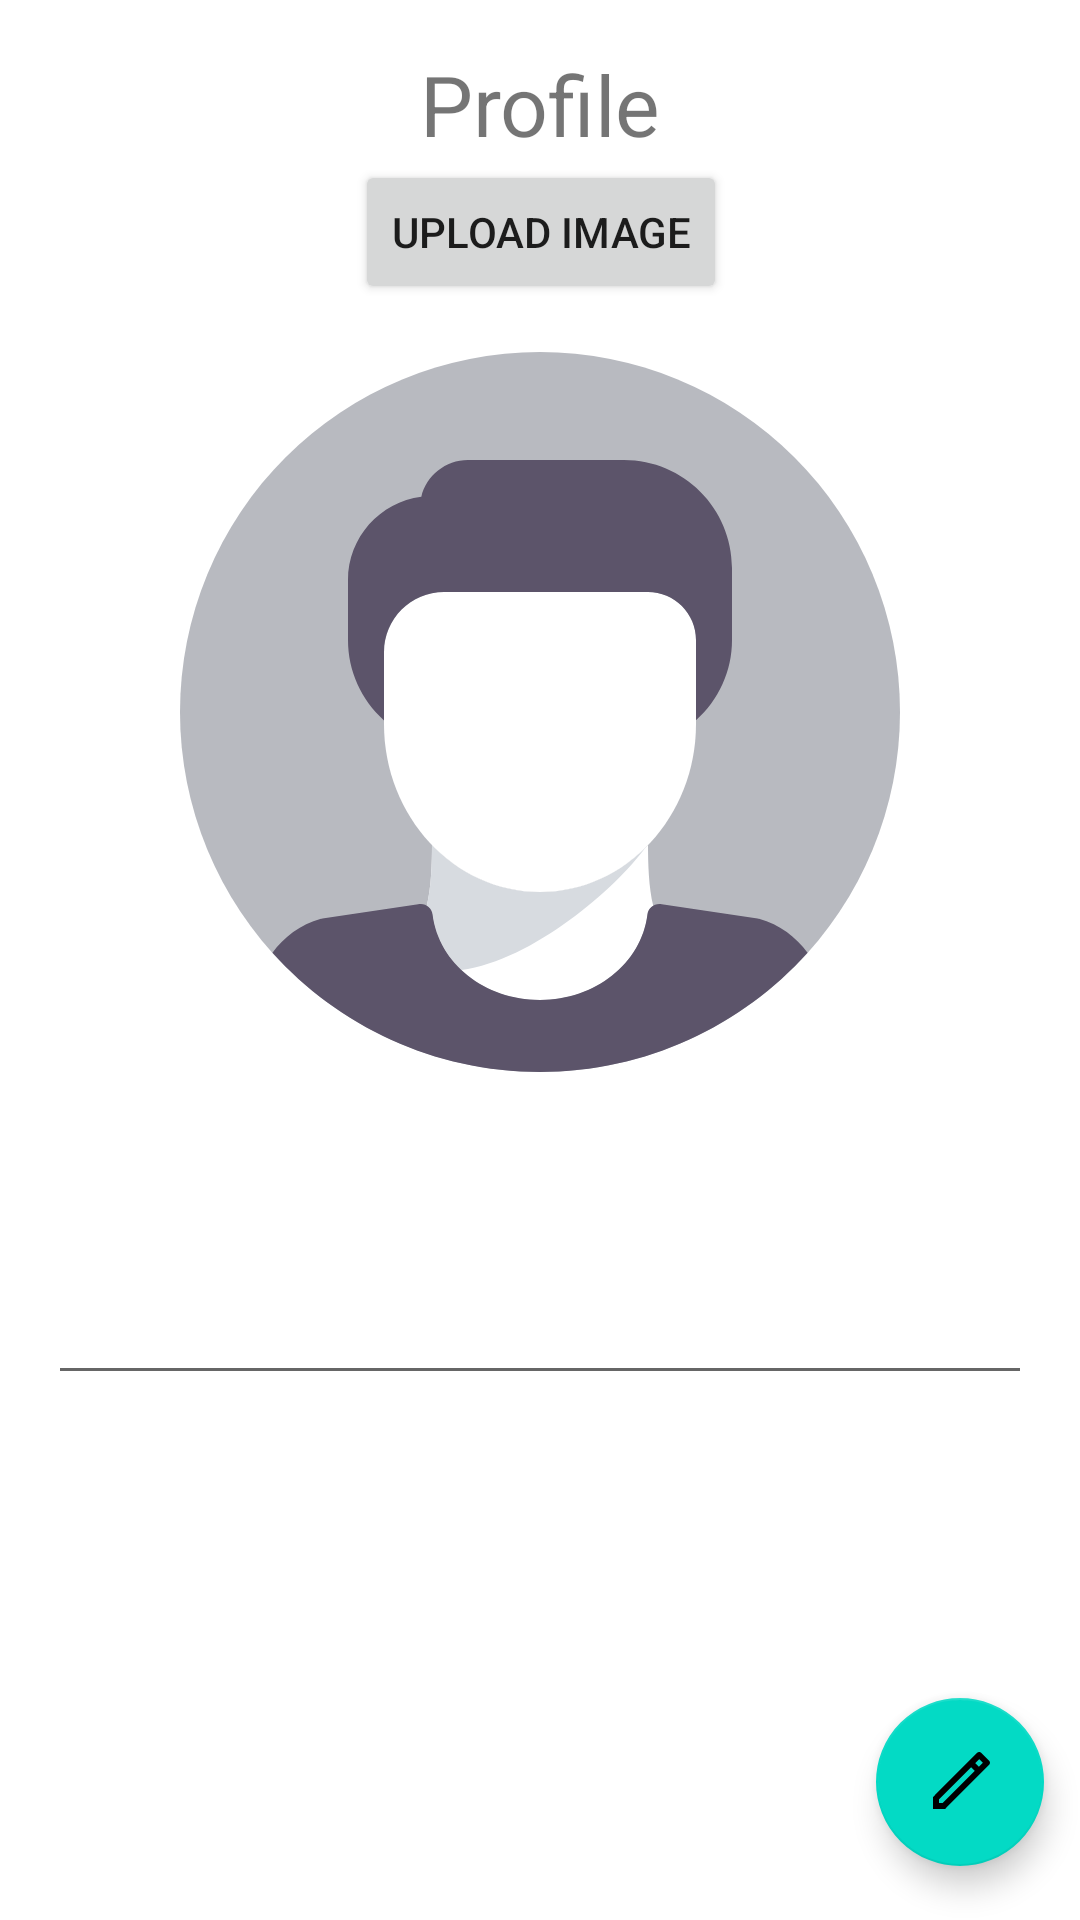

Named icons in this screenshot (1080px×1920px) and their bounding boxes, (x1, y1, x2, y2):
edit: (876, 1698, 1047, 1884)
